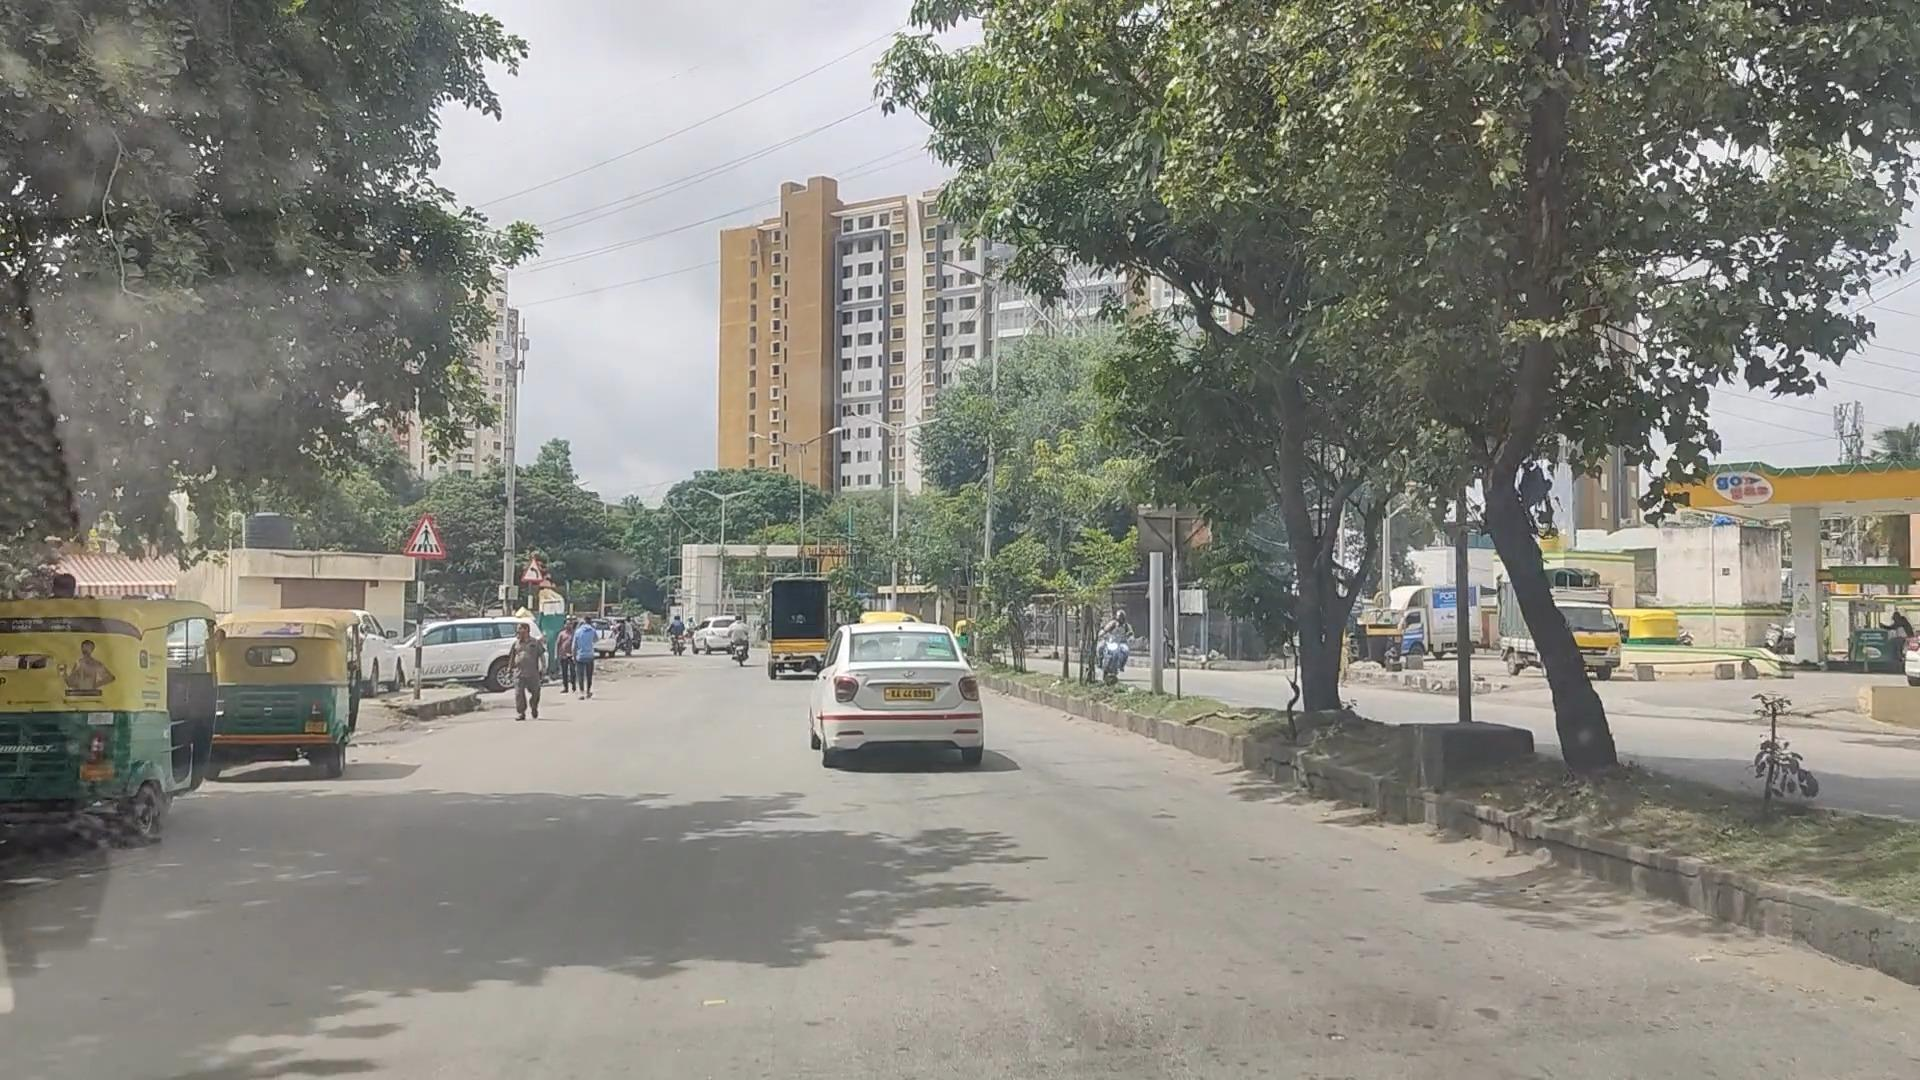LMV: (20, 607, 252, 849), (812, 616, 964, 778), (212, 625, 375, 746)
